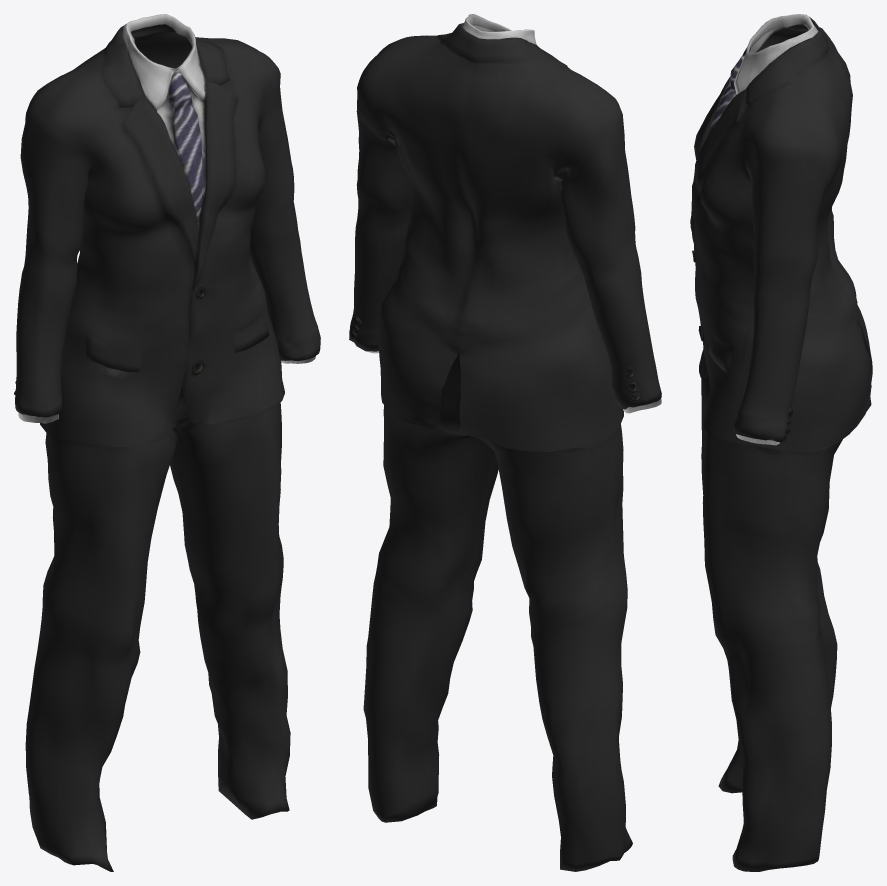
The model's file is male-elegantsuit01.glb.
3 renders of one model, left to right at view 1: azimuth 30°, elevation 25°; view 2: azimuth 150°, elevation 25°; view 3: azimuth 270°, elevation 25°, orthographic. The views are drawn at different scales.
Parts seen in each view (by area): view 1: Human.male_elegantsuit01; view 2: Human.male_elegantsuit01; view 3: Human.male_elegantsuit01.
Boxes of the visible parts, <box> form: Human.male_elegantsuit01: <box>14,14,320,871</box>; Human.male_elegantsuit01: <box>349,14,661,871</box>; Human.male_elegantsuit01: <box>690,14,872,871</box>.
Size of the model in its own units: 0.5402 by 1.4 by 0.2872.
1 material, 1 textured.
